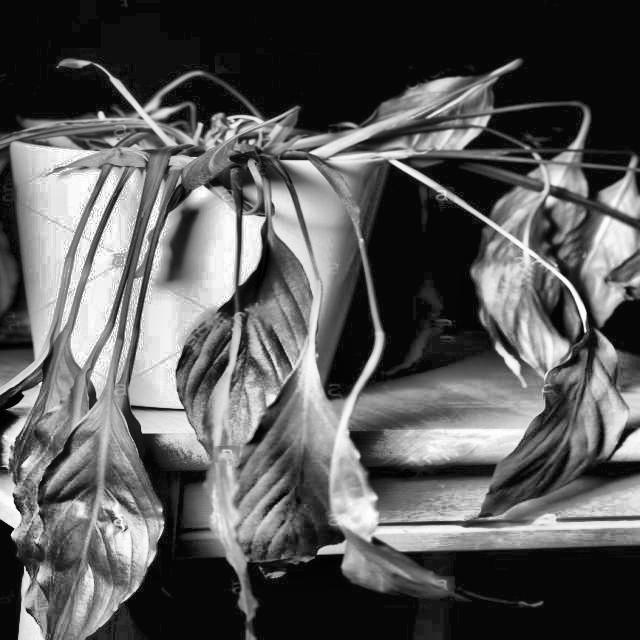plants: (21, 40, 640, 640)
